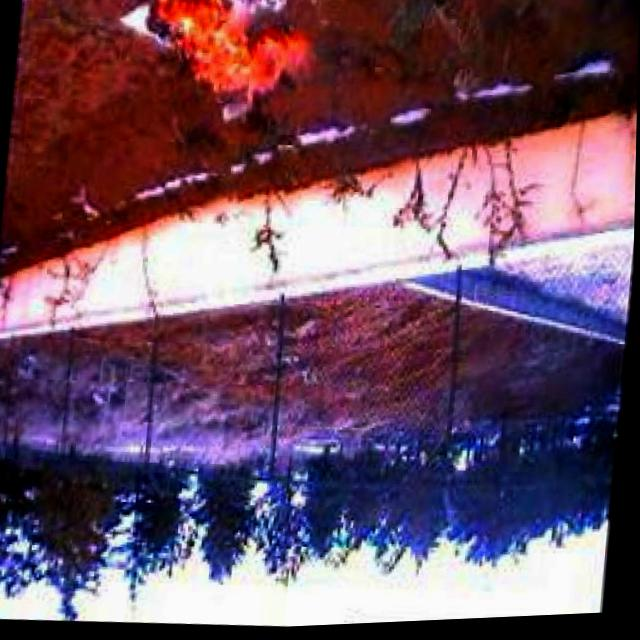helmet: (132, 0, 317, 132)
